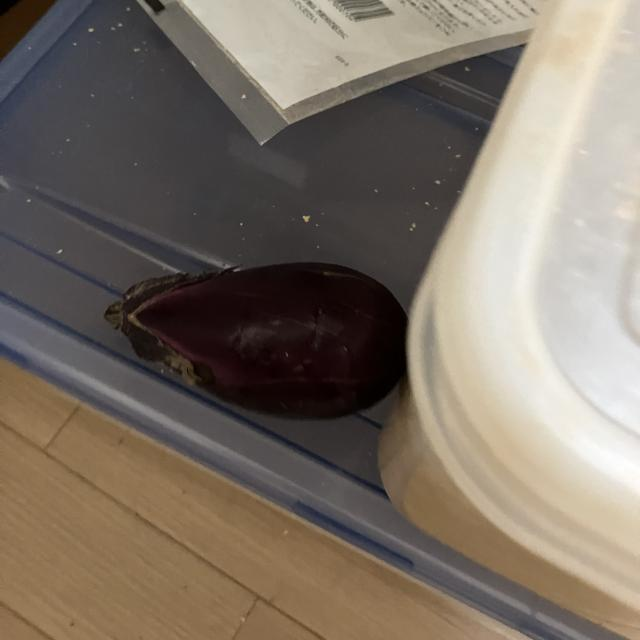eggplant: (99, 260, 408, 426)
